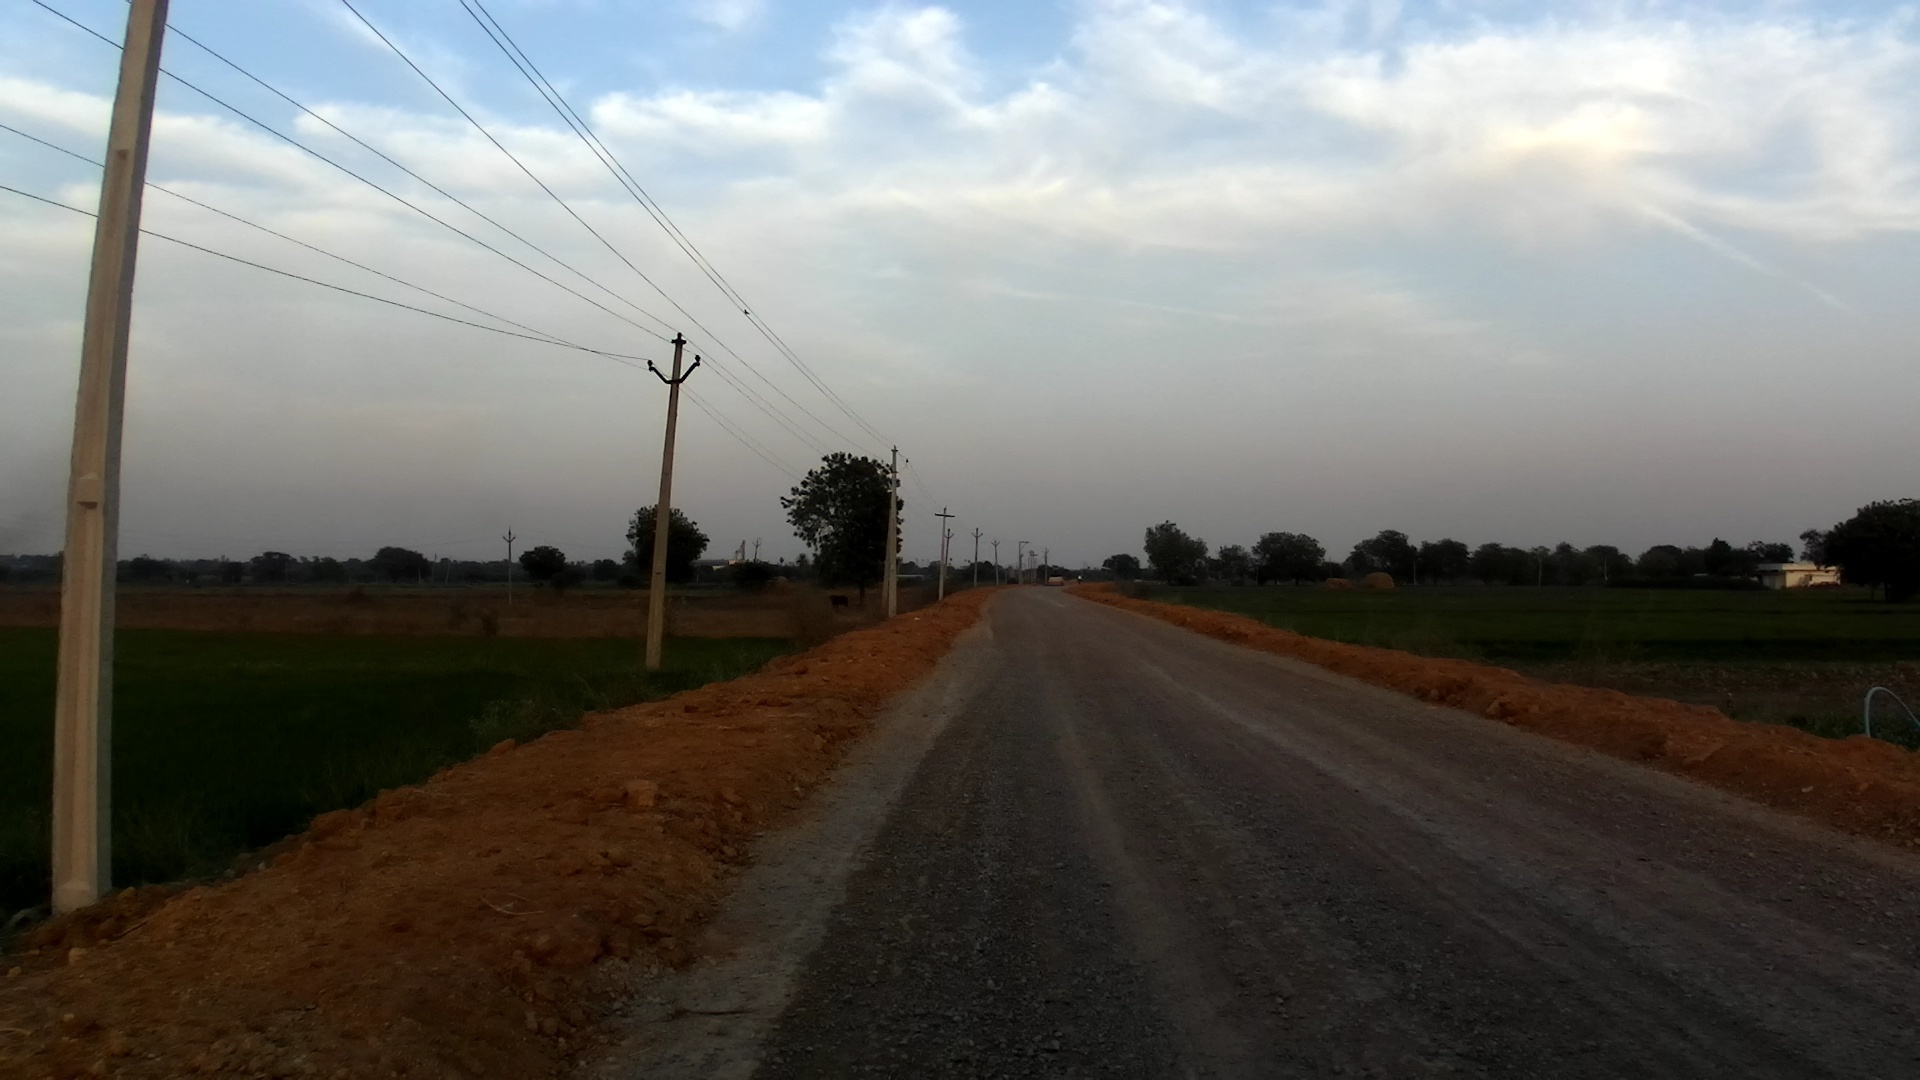car: (1048, 571, 1064, 587)
person: (1075, 570, 1082, 582)
